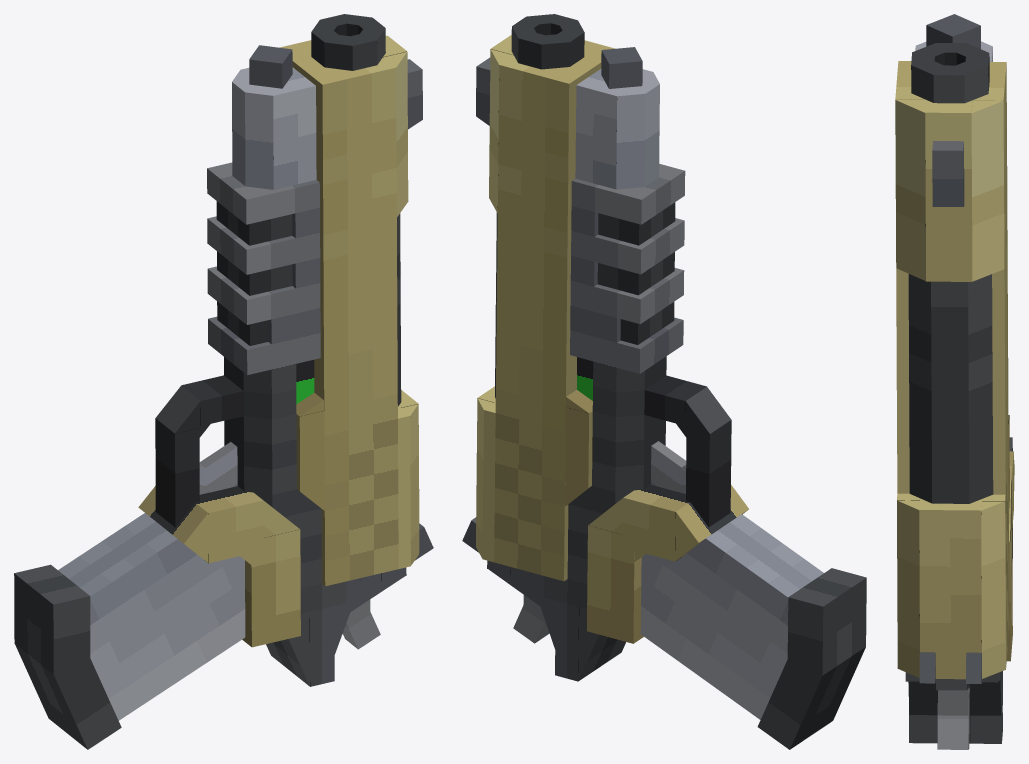
Rendered from gun.glb.
3 renders of one model, left to right at view 1: azimuth 30°, elevation 25°; view 2: azimuth 150°, elevation 25°; view 3: azimuth 270°, elevation 25°, orthographic. The views are drawn at different scales.
Parts seen in each view (by area): view 1: Empty; view 2: Empty; view 3: Empty.
Boxes of the visible parts, bbox=[...] form: Empty: bbox=[14, 14, 433, 749]; Empty: bbox=[462, 14, 866, 749]; Empty: bbox=[895, 14, 1014, 749].
Size of the model in its own units: 0.2042 by 0.3287 by 0.0496.
Materials: 2 (2 with a texture image).
